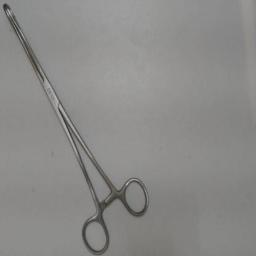Sponge Forceps: (1, 1, 151, 255)
